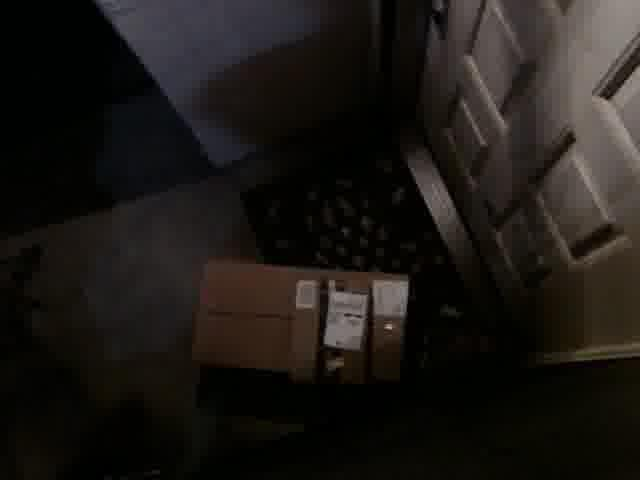box: (186, 256, 411, 390)
